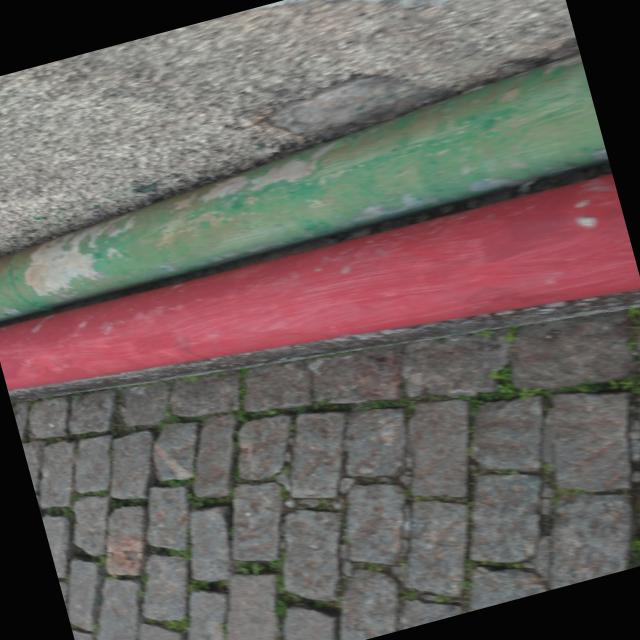gas: (0, 158, 640, 455), (0, 44, 609, 327)
